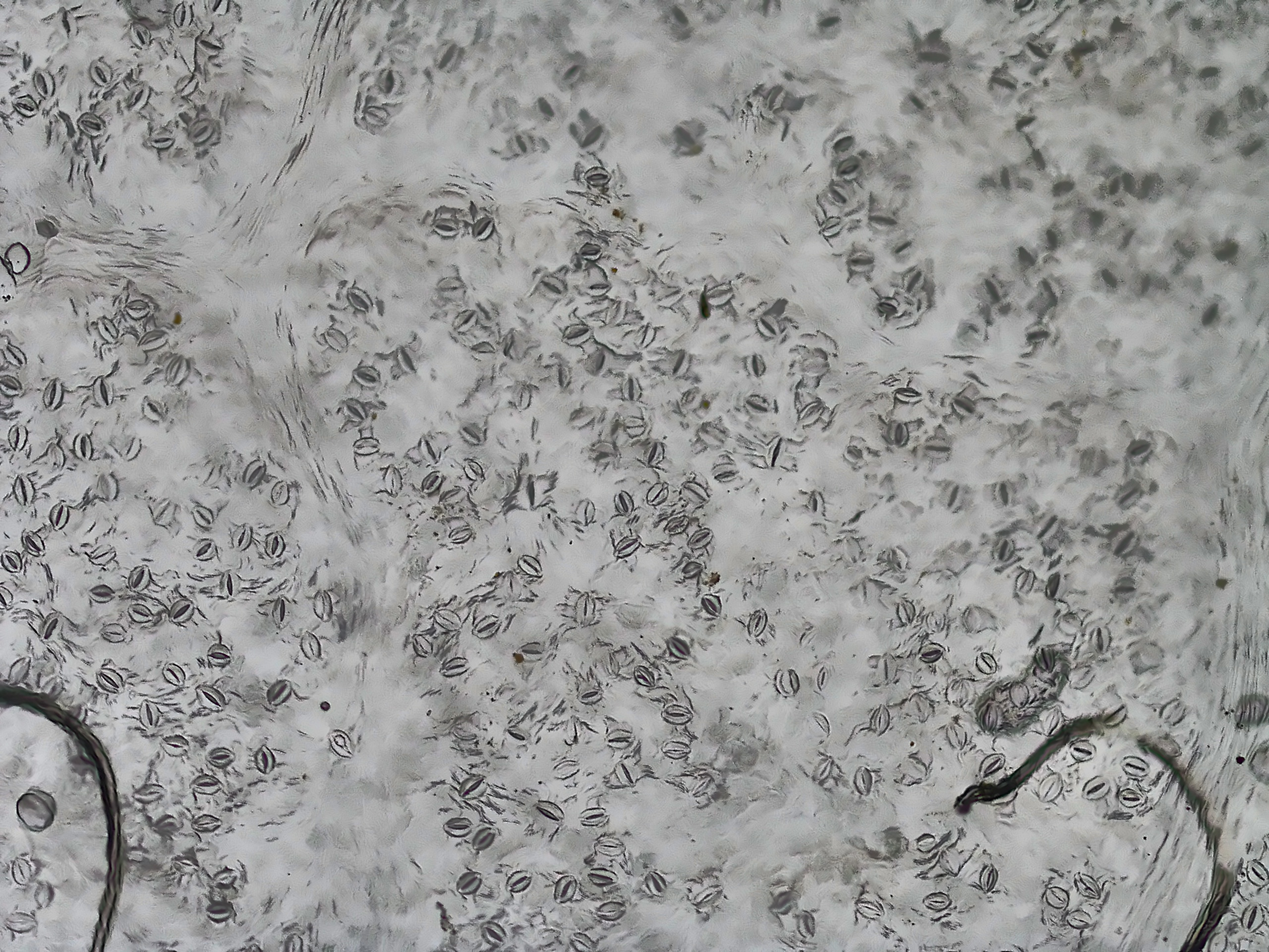stomata: (9, 789, 61, 833), (781, 894, 827, 941), (1190, 101, 1233, 146), (990, 161, 1029, 209), (120, 74, 160, 120), (850, 892, 897, 930), (913, 36, 961, 73), (184, 108, 222, 152), (1092, 263, 1141, 297), (164, 349, 196, 398), (975, 271, 1015, 310), (917, 892, 977, 918), (804, 748, 839, 791), (750, 77, 794, 111), (190, 681, 235, 714), (689, 882, 730, 918), (1101, 168, 1136, 210), (760, 428, 792, 473), (309, 585, 343, 627), (696, 418, 734, 454), (1111, 525, 1147, 563), (698, 279, 741, 310), (1112, 476, 1149, 512), (119, 295, 163, 325), (1018, 316, 1059, 348), (29, 605, 65, 641), (340, 361, 387, 388), (1042, 569, 1077, 605), (343, 284, 380, 318), (1123, 428, 1160, 462), (0, 415, 33, 453), (742, 388, 780, 421), (378, 455, 407, 498), (165, 68, 205, 99), (1027, 512, 1068, 542), (575, 120, 610, 155), (455, 769, 492, 802), (326, 723, 358, 761), (180, 771, 225, 798), (81, 537, 120, 568), (1192, 300, 1232, 330), (753, 308, 787, 343), (5, 654, 38, 690), (515, 549, 548, 585), (681, 521, 718, 553), (438, 653, 478, 682), (1118, 750, 1158, 779), (521, 463, 545, 511), (402, 630, 438, 662), (777, 665, 805, 706), (455, 417, 492, 448), (0, 330, 30, 368), (468, 613, 506, 643), (340, 393, 373, 427), (533, 94, 568, 126), (205, 895, 240, 927), (395, 339, 421, 382), (195, 24, 225, 61), (17, 530, 54, 560), (591, 833, 632, 860), (581, 864, 627, 888), (40, 667, 69, 705), (865, 697, 893, 736), (665, 6, 698, 39), (741, 349, 774, 382), (838, 436, 871, 469), (815, 6, 849, 38), (478, 914, 512, 946), (187, 534, 223, 564), (1070, 866, 1100, 902), (655, 702, 698, 727), (578, 801, 615, 830), (357, 105, 398, 131), (551, 61, 592, 87), (577, 159, 615, 187), (74, 108, 107, 140), (414, 435, 447, 467), (1069, 37, 1108, 64), (618, 368, 645, 407), (0, 541, 30, 576), (866, 200, 902, 229), (595, 895, 635, 921), (655, 736, 702, 758), (857, 572, 881, 615), (144, 391, 171, 429), (1097, 696, 1129, 728), (437, 273, 468, 306), (883, 546, 916, 577), (677, 119, 706, 154), (1050, 172, 1085, 201), (188, 809, 227, 835), (131, 780, 173, 804), (947, 393, 983, 421), (426, 609, 466, 634), (538, 271, 569, 303), (1039, 280, 1069, 313), (140, 127, 178, 153), (798, 395, 824, 433), (1218, 231, 1244, 269), (805, 488, 831, 526), (912, 691, 940, 726), (201, 742, 238, 768), (1015, 231, 1038, 272), (677, 480, 713, 506), (853, 762, 877, 801), (1009, 675, 1033, 714), (872, 649, 898, 685), (167, 592, 196, 624), (885, 420, 914, 452), (923, 434, 955, 463), (533, 796, 565, 825), (29, 210, 62, 238), (833, 154, 866, 182), (552, 754, 585, 782), (272, 593, 295, 633), (977, 858, 1004, 892), (40, 376, 64, 414), (560, 319, 598, 343), (949, 675, 975, 710), (14, 467, 35, 510), (121, 429, 146, 465), (663, 631, 693, 661), (994, 476, 1019, 512), (40, 441, 69, 472), (471, 821, 499, 853), (1069, 735, 1101, 763), (987, 71, 1020, 98), (1079, 771, 1112, 798), (59, 9, 83, 46), (437, 814, 474, 838), (298, 630, 324, 664), (895, 592, 921, 626), (154, 494, 179, 529), (946, 718, 971, 753), (1119, 782, 1148, 812), (607, 726, 638, 754), (1041, 882, 1069, 913), (50, 498, 74, 534), (96, 666, 128, 693), (513, 381, 545, 408), (710, 460, 746, 484), (505, 722, 537, 749), (577, 589, 601, 625), (611, 533, 645, 558), (4, 96, 44, 117), (1021, 39, 1056, 63), (430, 214, 465, 238), (662, 508, 692, 536), (640, 867, 680, 888), (279, 928, 314, 952), (32, 68, 59, 99), (97, 472, 124, 503), (189, 501, 216, 532), (95, 381, 121, 413), (473, 212, 499, 244), (585, 273, 617, 299), (502, 331, 528, 363), (845, 250, 881, 273), (569, 929, 605, 952), (572, 497, 597, 530), (994, 532, 1019, 565), (140, 698, 164, 732), (549, 357, 571, 394), (168, 2, 198, 29), (659, 280, 689, 307), (935, 847, 962, 877), (914, 829, 945, 855), (379, 65, 404, 97), (255, 742, 280, 774), (503, 864, 535, 889), (948, 476, 969, 514), (1093, 620, 1114, 658), (624, 411, 651, 440), (979, 745, 1006, 774), (136, 330, 173, 351), (438, 43, 463, 74), (413, 472, 448, 494), (269, 477, 293, 509), (171, 854, 203, 878), (350, 436, 383, 459), (1112, 581, 1145, 604), (161, 732, 189, 759), (454, 309, 482, 336), (902, 265, 928, 294), (982, 702, 1008, 731), (1166, 698, 1191, 728), (1012, 110, 1046, 132), (445, 523, 479, 545), (645, 437, 667, 471), (269, 675, 293, 706), (243, 458, 266, 490), (206, 643, 238, 666), (205, 0, 240, 21), (904, 83, 925, 118), (746, 604, 767, 639), (1064, 908, 1099, 929), (466, 457, 493, 484), (619, 755, 641, 788), (104, 620, 133, 645), (163, 657, 188, 686), (508, 133, 537, 158), (646, 479, 671, 508), (19, 850, 39, 886), (154, 813, 184, 837), (1034, 642, 1058, 672), (231, 521, 254, 552), (823, 184, 855, 206), (100, 313, 119, 350), (0, 581, 20, 616), (614, 487, 635, 520), (830, 128, 860, 151), (1042, 774, 1065, 804), (89, 60, 114, 87), (680, 555, 705, 582), (264, 530, 288, 558), (975, 653, 1003, 677), (668, 347, 691, 376), (634, 660, 657, 689), (78, 425, 95, 464), (570, 690, 609, 707), (130, 563, 152, 593), (703, 591, 725, 621), (0, 372, 24, 399), (223, 568, 241, 603), (635, 321, 656, 351), (1048, 702, 1066, 737), (1242, 901, 1263, 931), (579, 236, 605, 260), (325, 328, 348, 355), (125, 605, 156, 625), (210, 868, 241, 888), (1010, 0, 1048, 16), (548, 871, 586, 887), (889, 237, 919, 257), (524, 641, 551, 663), (131, 26, 153, 52), (1019, 566, 1038, 596), (0, 41, 21, 68), (88, 584, 115, 605), (1050, 229, 1069, 257), (895, 386, 923, 405), (1250, 861, 1269, 889), (816, 662, 833, 691), (817, 219, 845, 236), (922, 645, 948, 663), (458, 868, 481, 886)
